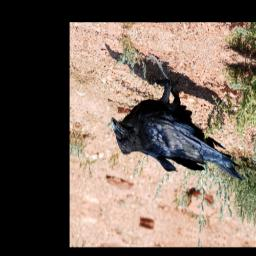Crow: (106, 44, 255, 191)
